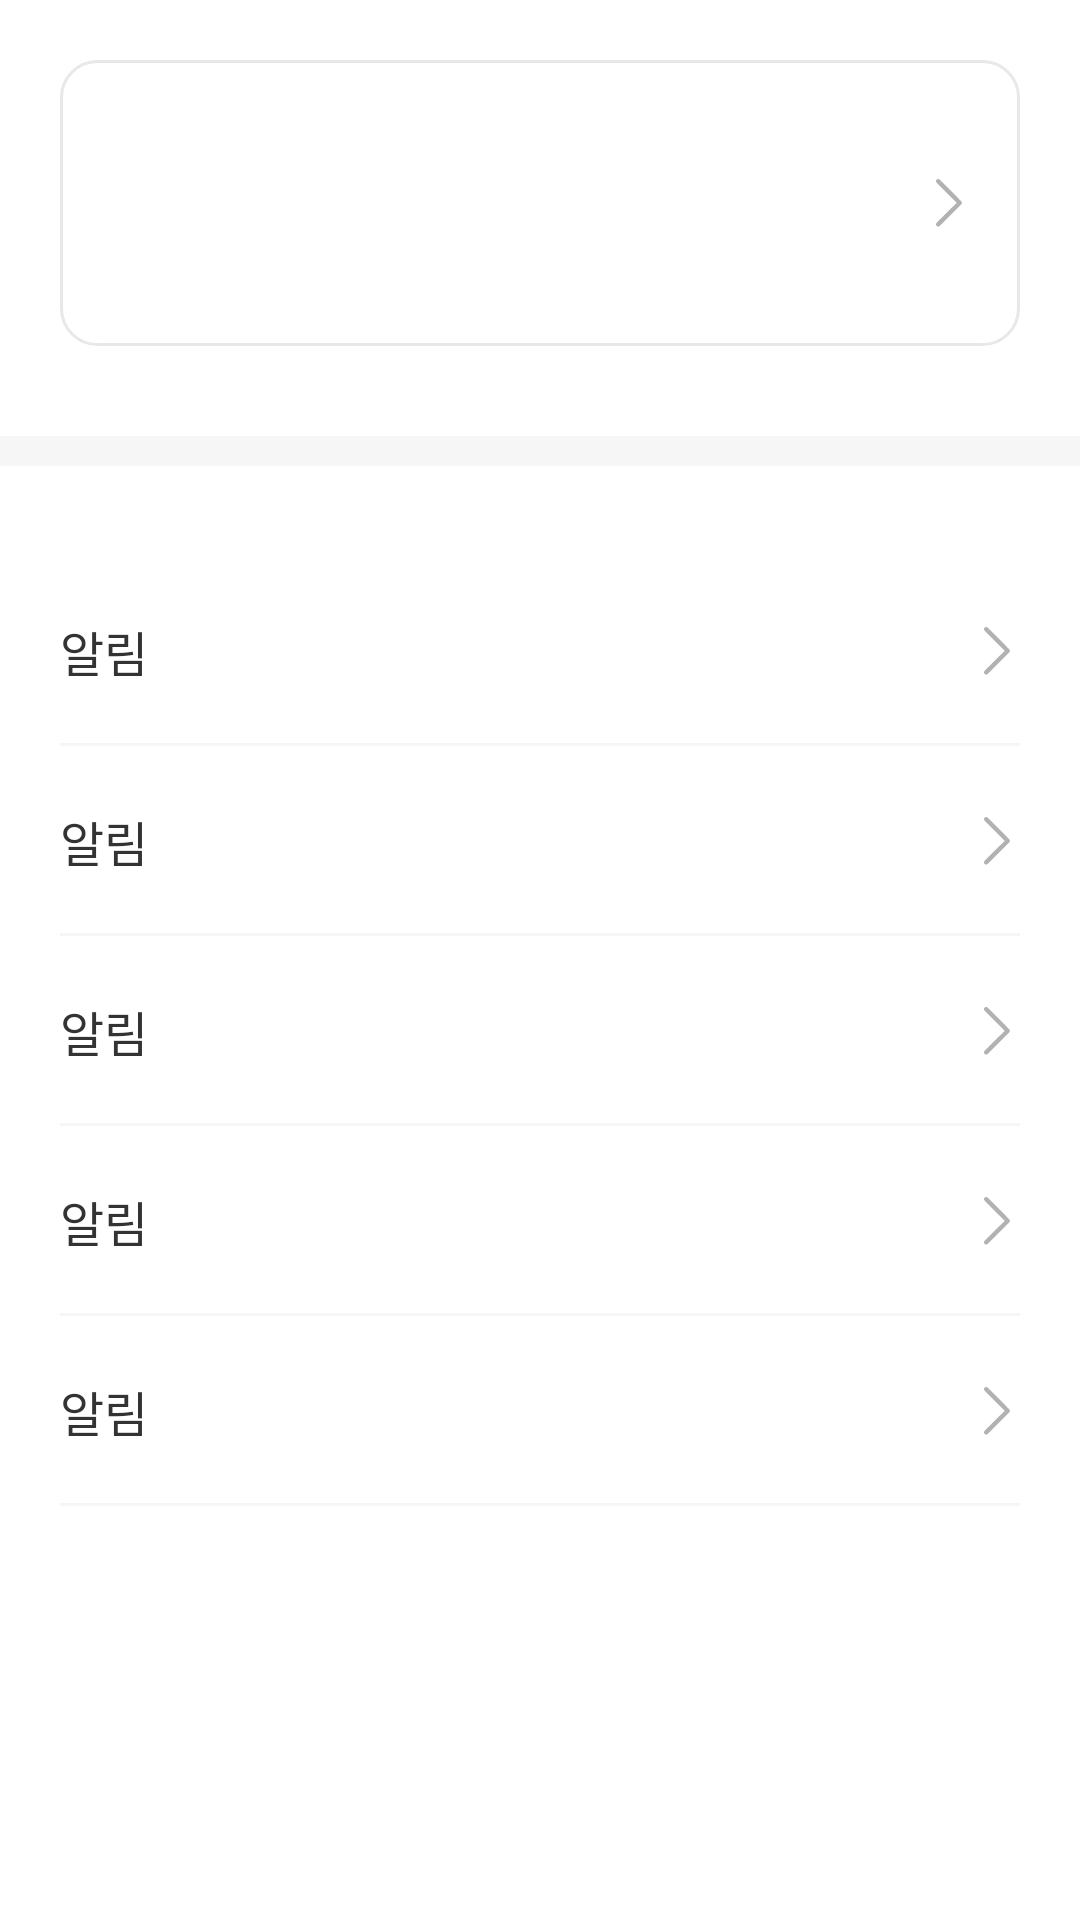

Named icons in this screenshot (1080*1920) and their centers, [x,y]:
chevron right: [949,203], [997,651], [997,841], [997,1031], [997,1221], [997,1411]
